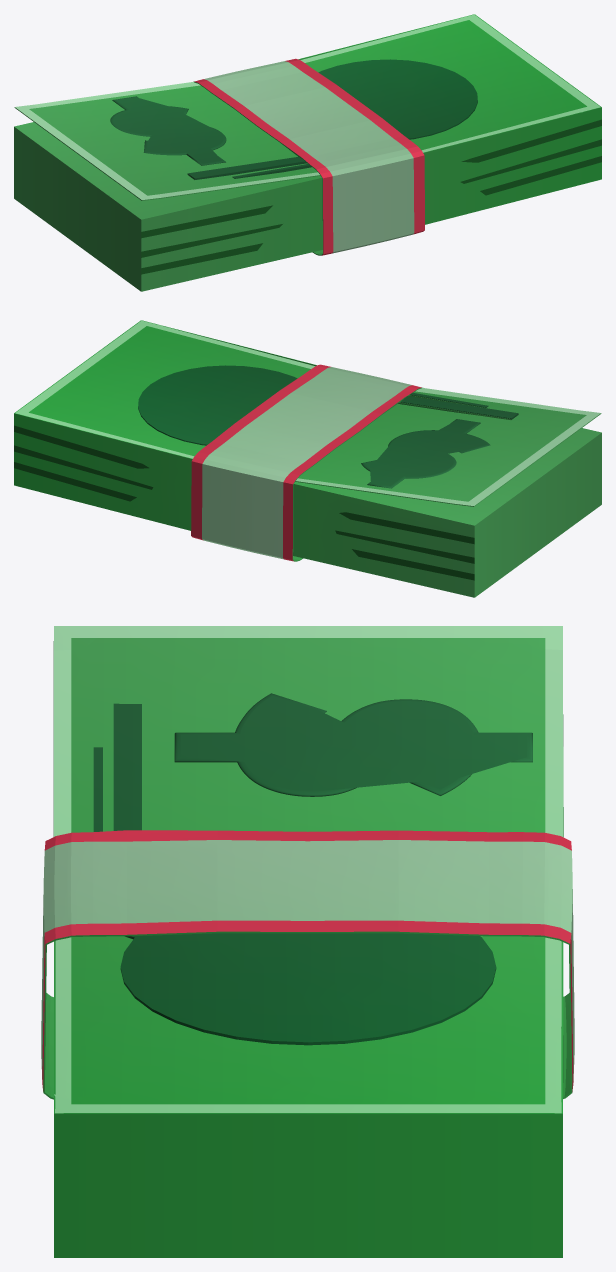
File: Mesh_Money_1.fbx
3 views of the same model, one above another, from view 1: azimuth 30°, elevation 25°; view 2: azimuth 150°, elevation 25°; view 3: azimuth 270°, elevation 25° (orthographic). The views are drawn at different scales.
Visible parts, largest first — view 1: Dollars; view 2: Dollars; view 3: Dollars.
Boxes of the visible parts, bbox=[...] form: Dollars: bbox=[14, 14, 601, 291]; Dollars: bbox=[14, 320, 601, 597]; Dollars: bbox=[41, 626, 574, 1257].
Bounding box in the file's own units: 1.11 × 0.2379 × 0.5561.
